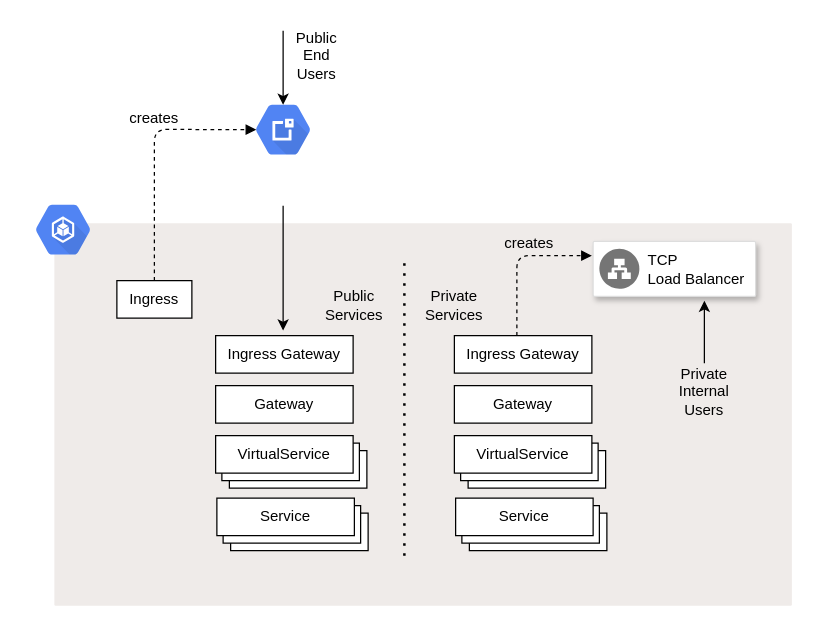
This 813x628 diagram has some shape labels left out. The centre of each missing label's shape, as x and y in pixels:
"GCP HTTPS LoadBalancer" belongs at pixel 282 129.
"Kubernetes Engine" belongs at pixel 62 229.
